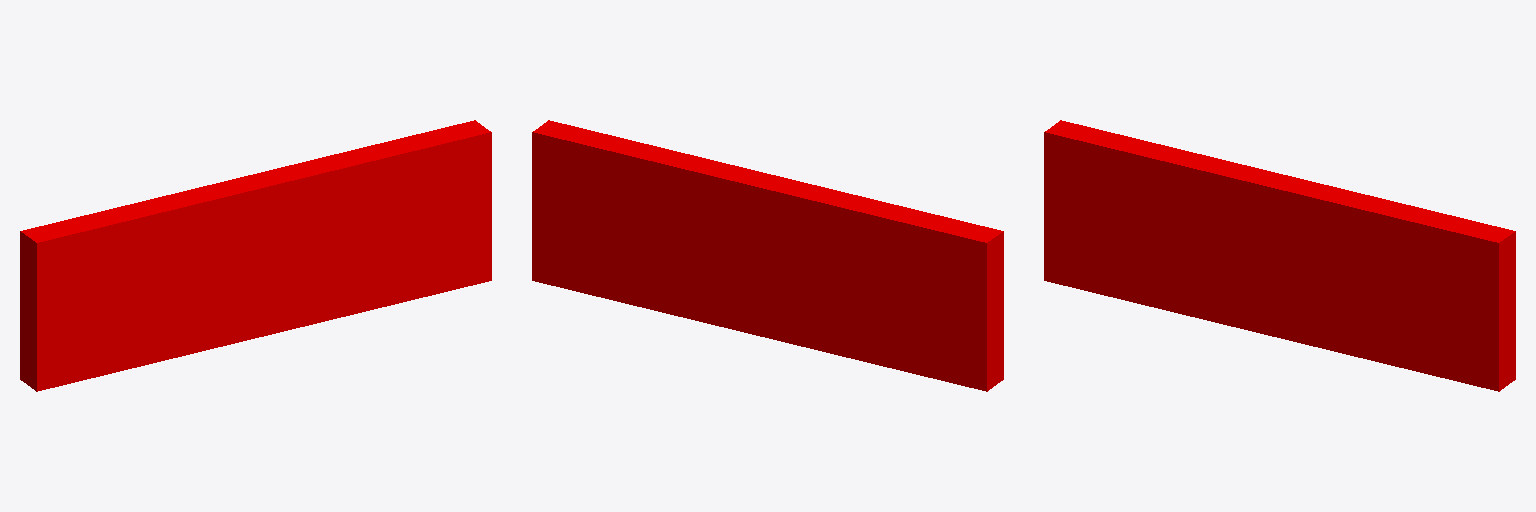
The robot description file, URDF, robot "back_boundary":
<?xml version="1.0"?>
<!-- created with Phobos 1.0.1 "Capricious Choutengan" -->
  <robot name="back_boundary">

    <link name="back_wall">
      <inertial>
        <contact>
          <lateral_friction value="1"/>
        </contact>
        <origin xyz="0 0 0" rpy="0 0 0"/>
        <mass value="0.001"/>
        <inertia ixx="0.001" ixy="0" ixz="0" iyy="0.001" iyz="0" izz="0.001"/>
      </inertial>
      <visual name="Cube">
        <origin xyz="0 0 0" rpy="0 0 0"/>
        <geometry>
          <box size="1.6 0.1 0.5"/>
        </geometry>
        <material name="red">
          <color rgba="1.0 0 0 1.0"/>
        </material>
      </visual>
      <collision>
        <origin rpy="0 0 0" xyz="0 0 0"/>
        <geometry>
          <box size="1.3 0.1 0.5"/>
        </geometry>
      </collision>
    </link>

    <material name="blue">
      <color rgba="0.68 0.74 0.04 1.0"/>
    </material>

  </robot>

--- What the picture shows (computed from the rendered views, not written in the file) ---
Views: 3 orthographic renders of the robot side by side, from view 1: azimuth 30°, elevation 25°; view 2: azimuth 150°, elevation 25°; view 3: azimuth 330°, elevation 25°.
Robot: back_boundary — 1 links, 0 joints (none); root link back_wall; default pose: all joints at 0.
Links seen in each view (by area): view 1: back_wall; view 2: back_wall; view 3: back_wall.
Link boxes in pixels (left/top/right/bottom): back_wall: left=20, top=120, right=491, bottom=391; back_wall: left=532, top=120, right=1003, bottom=391; back_wall: left=1044, top=120, right=1515, bottom=391.
Size in the robot's own frame: 1.6 by 0.1 by 0.5 metres.
Geometry: primitives only (box / cylinder / sphere), no mesh files.